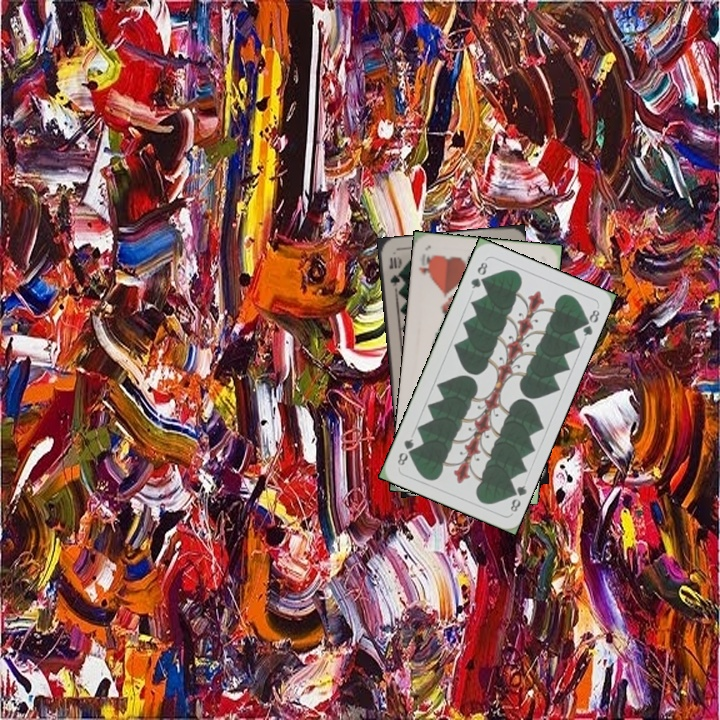G10: (385, 252, 403, 289)
G8: (505, 481, 529, 515), (467, 258, 490, 291)
HO: (414, 250, 435, 280)
